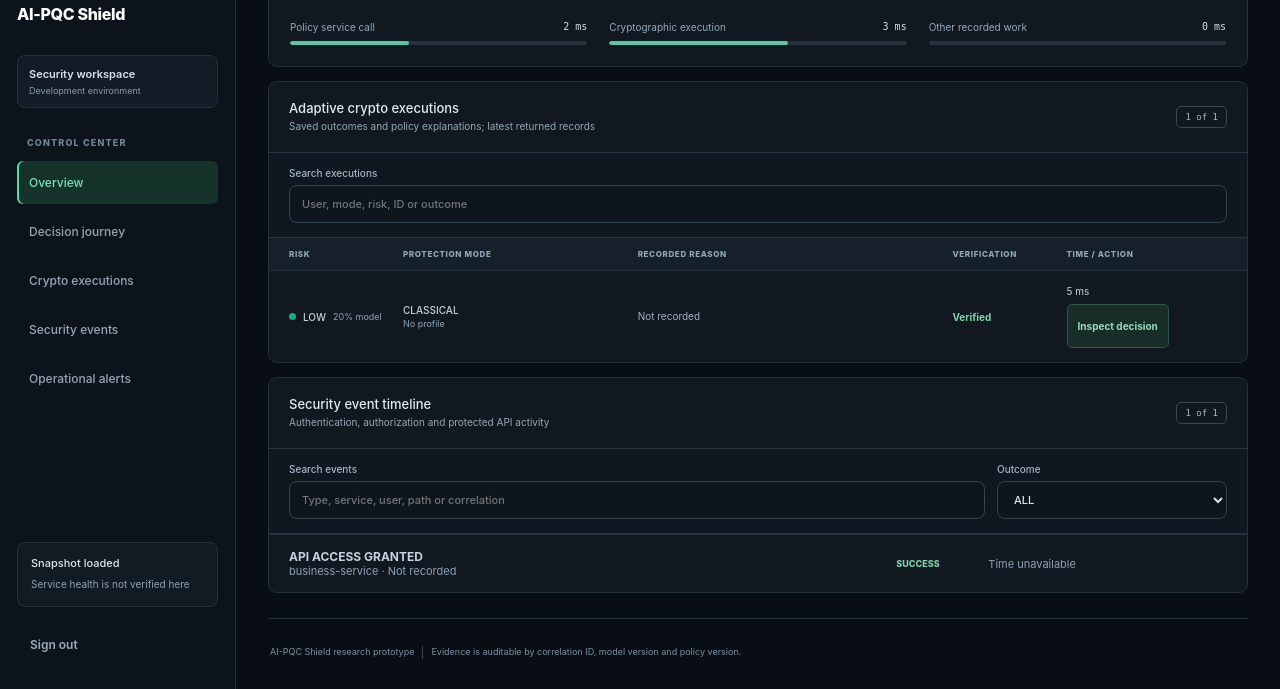
Dashboard keyboard and semantic contracts › explains how to recover an empty event filter without asking for new traffic
This screenshot has width=1280, height=689.
(page scrolled)
Step 1. Type "not-present" into the field labelled "Search events" → (637, 500), box [289, 481, 985, 519]
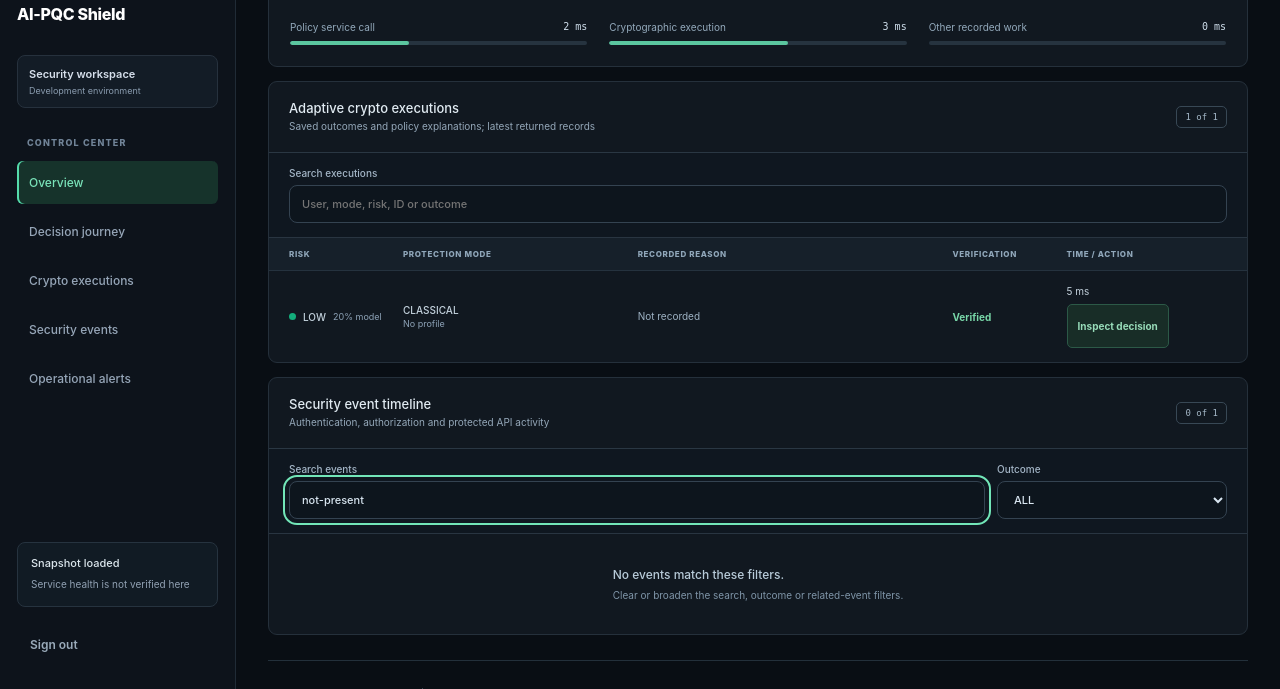
Check: the text "No events match these filters." is shown, box [613, 567, 784, 582]
Check: the text "Clear or broaden the search, outcome or related-event filters." is shown, box [613, 589, 903, 601]
Step 2. Clear the field labelled "Search events" → (637, 500), box [289, 481, 985, 519]
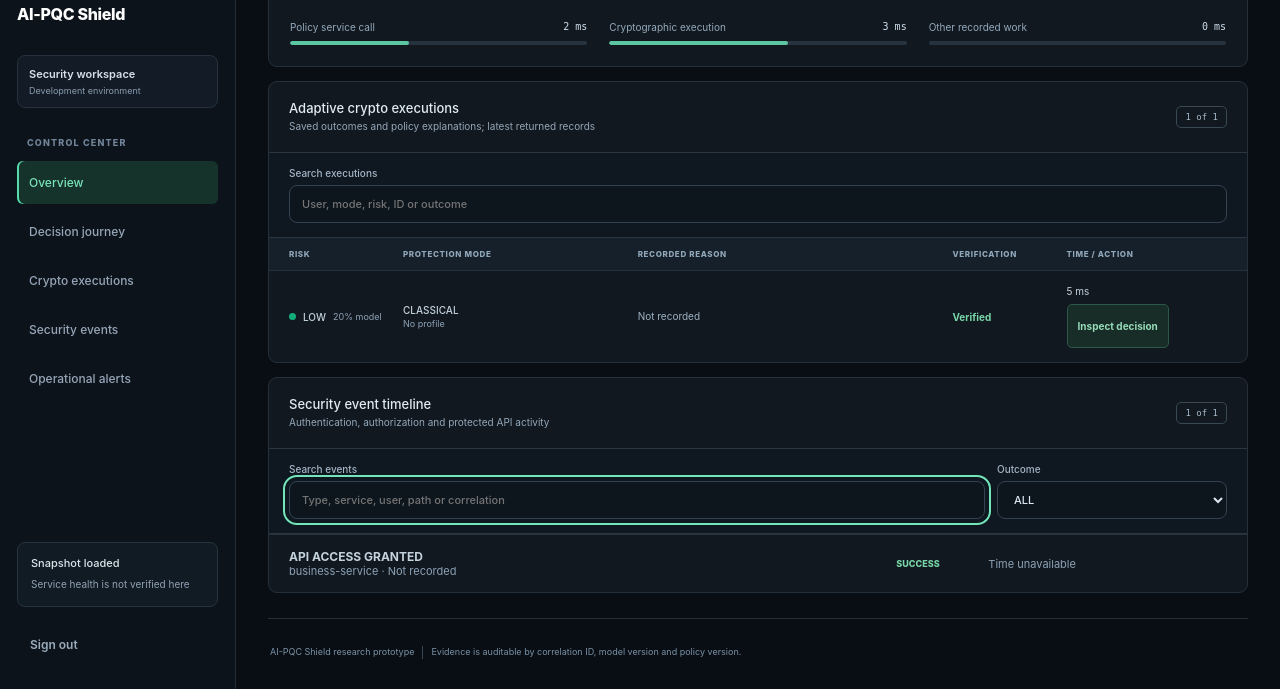
Check: the text "No events match these filters." is gone
Check: the message named "Event result count" reads "1 of 1", box [1176, 402, 1227, 424]
